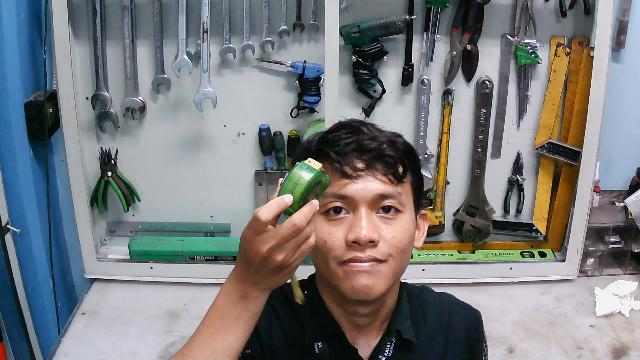meteran: (269, 155, 333, 225)
